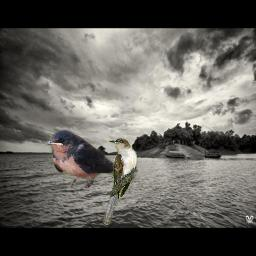Cuckoo: (103, 138, 138, 225)
Swallow: (45, 129, 123, 189)
